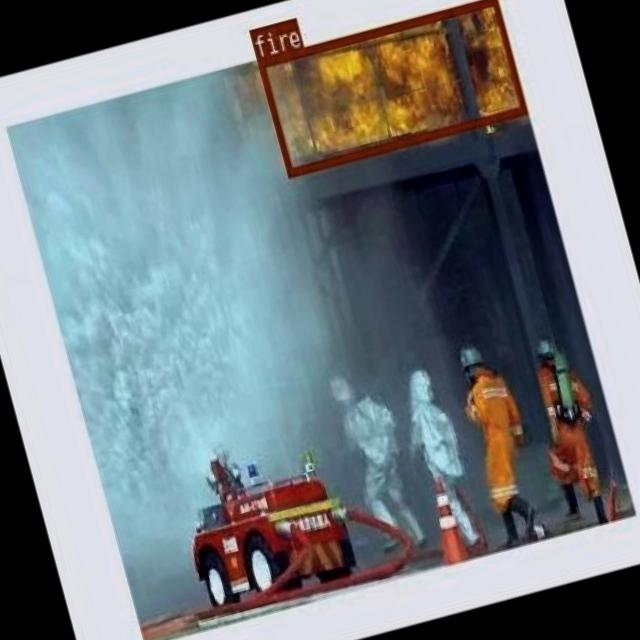fire: (255, 0, 526, 175)
